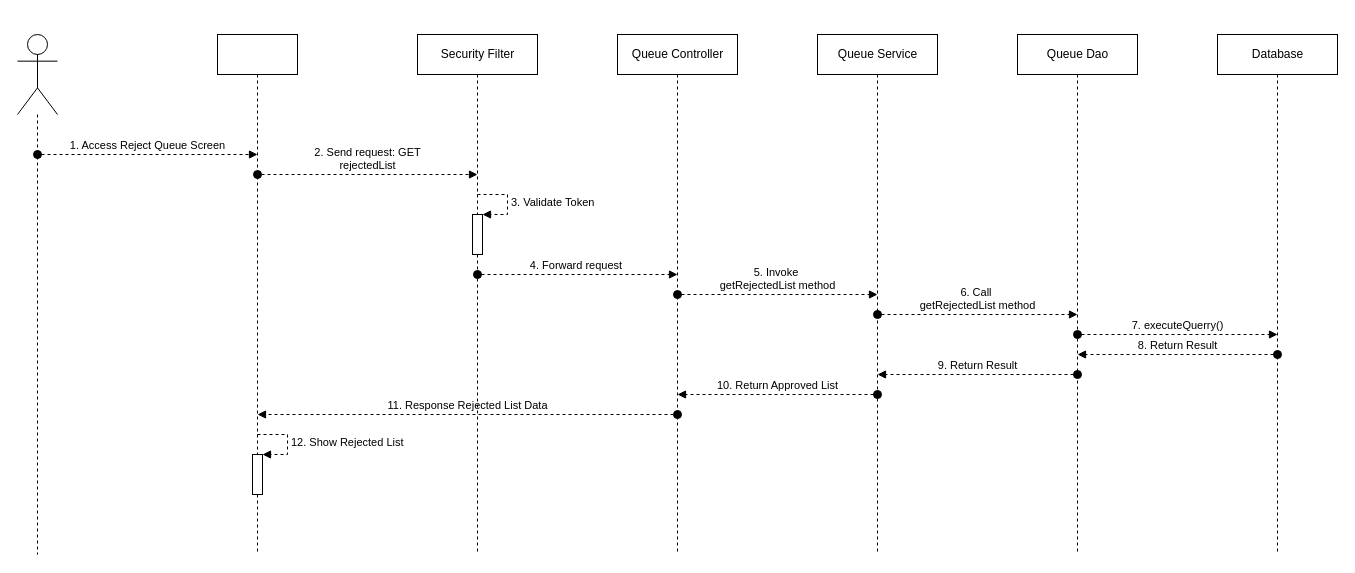
Some shapes in this 1355 by 573 pixel diagram are drawn without their labels. Here are the shapes that lost their labels. From the top down, the box of each, then its label:
(16, 34, 58, 114): User
(216, 34, 298, 74): Browser
